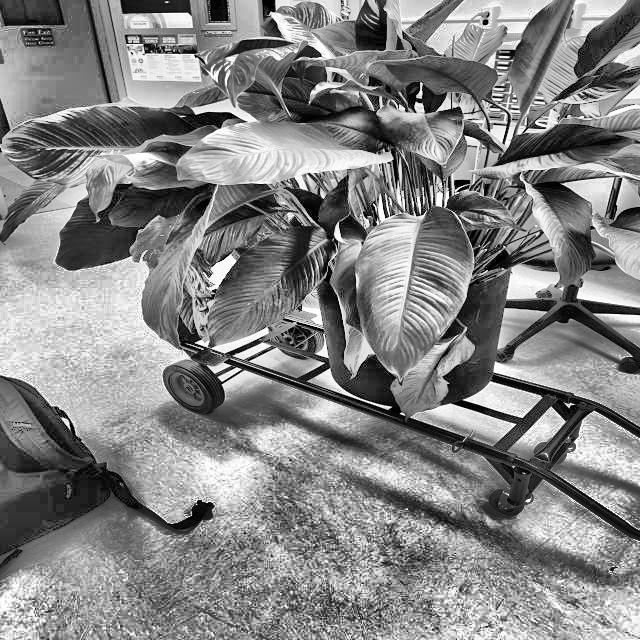plants: (81, 8, 640, 282)
